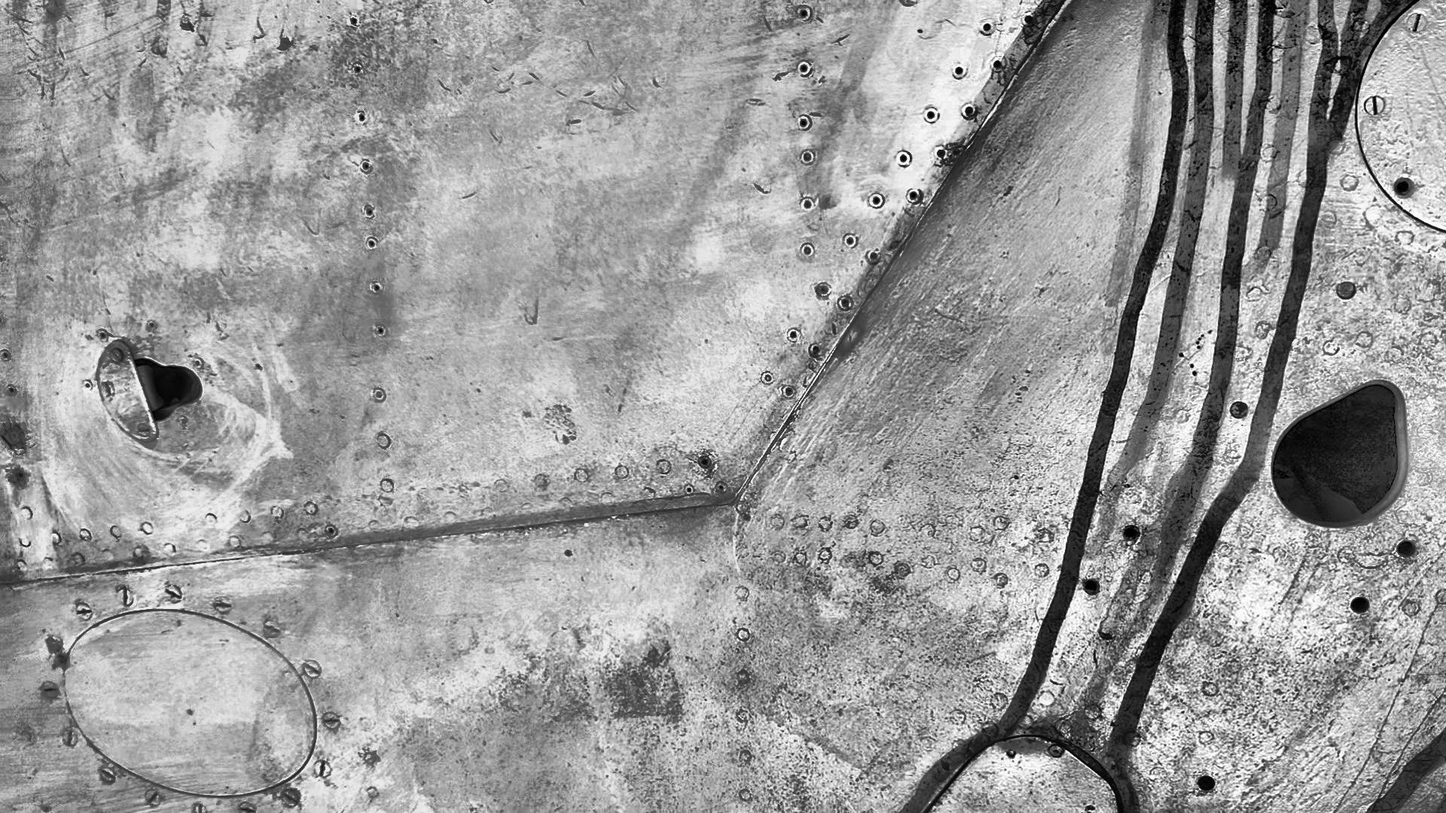missing-head: (1393, 177, 1414, 196), (795, 113, 810, 132), (951, 62, 966, 81), (977, 21, 996, 36), (842, 233, 860, 248), (796, 60, 811, 77), (988, 58, 1005, 73), (960, 102, 975, 119), (906, 188, 923, 203), (798, 198, 815, 213), (787, 327, 802, 343), (896, 151, 911, 167), (697, 455, 712, 470), (923, 107, 938, 122), (796, 8, 813, 21), (872, 192, 885, 209), (808, 341, 821, 358), (838, 294, 851, 311), (798, 151, 815, 164), (6, 382, 20, 397), (1020, 13, 1034, 26), (800, 243, 813, 256), (359, 159, 371, 173), (0, 349, 12, 363), (324, 525, 336, 537), (364, 204, 374, 218), (356, 111, 366, 124), (375, 327, 386, 337), (717, 482, 727, 493), (146, 321, 157, 331), (371, 282, 380, 294), (354, 61, 362, 74), (84, 378, 92, 391), (367, 237, 377, 247), (685, 484, 694, 495), (98, 331, 107, 340), (194, 357, 200, 369), (350, 17, 357, 26)
paint-peel-off: (2, 422, 26, 450)
